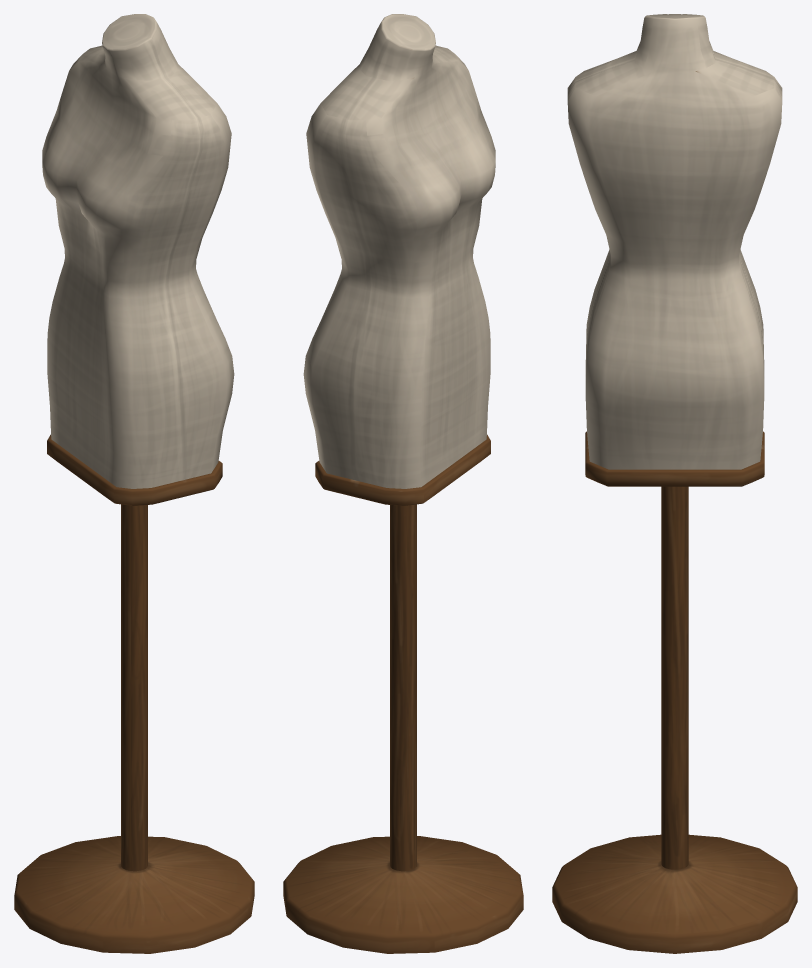
File: mannequin.fbx
3 renders of one model, left to right at view 1: azimuth 30°, elevation 25°; view 2: azimuth 150°, elevation 25°; view 3: azimuth 270°, elevation 25°, orthographic.
Parts seen in each view (by area): view 1: Cylinder; view 2: Cylinder; view 3: Cylinder.
Boxes of the visible parts, x1,y1,x2,y2 form: Cylinder: (14, 14, 254, 953); Cylinder: (283, 14, 523, 953); Cylinder: (552, 14, 797, 953).
Bounding box in the file's own units: 1869 × 7511 × 1869.
1 material, 1 textured.
